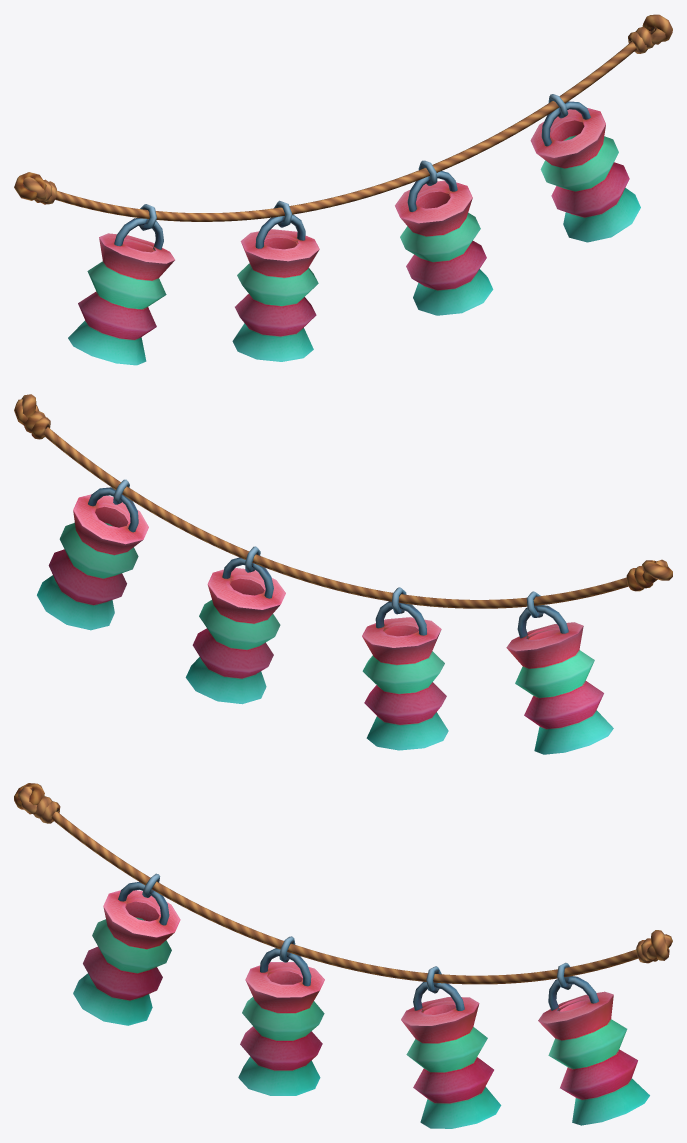
The model's file is SE_Lampions_03a.fbx.
3 renders of one model, top to bottom at view 1: azimuth 30°, elevation 25°; view 2: azimuth 150°, elevation 25°; view 3: azimuth 330°, elevation 25°, orthographic.
Parts seen in each view (by area): view 1: SE_Lampions_03a; view 2: SE_Lampions_03a; view 3: SE_Lampions_03a.
Boxes of the visible parts, <box> form: SE_Lampions_03a: <box>14,14,672,365</box>; SE_Lampions_03a: <box>14,394,672,754</box>; SE_Lampions_03a: <box>14,783,672,1128</box>.
Size of the model in its own units: 12.09 by 4.39 by 1.29.
